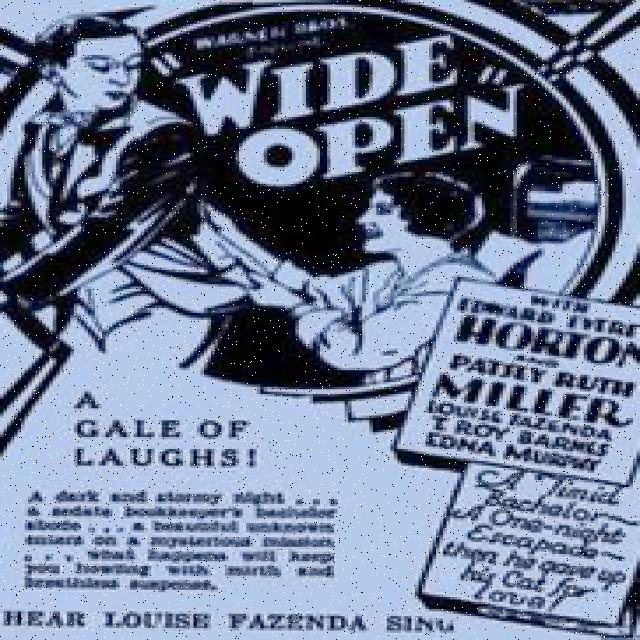movie-judul: (149, 34, 543, 189)
picture: (205, 177, 486, 356), (2, 18, 144, 330)
